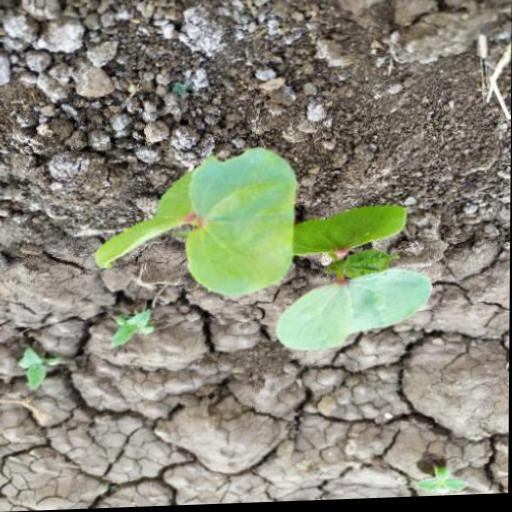weed: (82, 141, 443, 373)
